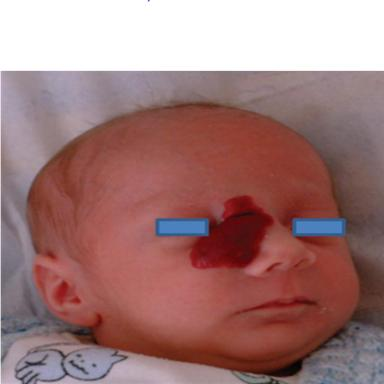Hemangiome: (191, 196, 274, 269)
